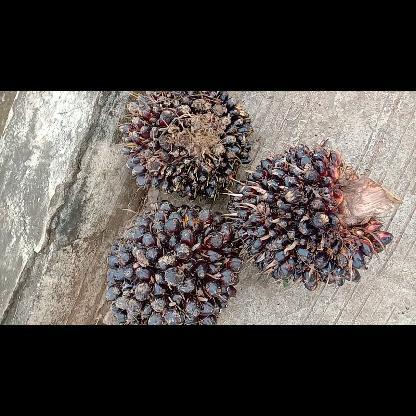TBS mentah: (224, 141, 406, 293), (103, 196, 245, 324), (117, 91, 257, 200)
